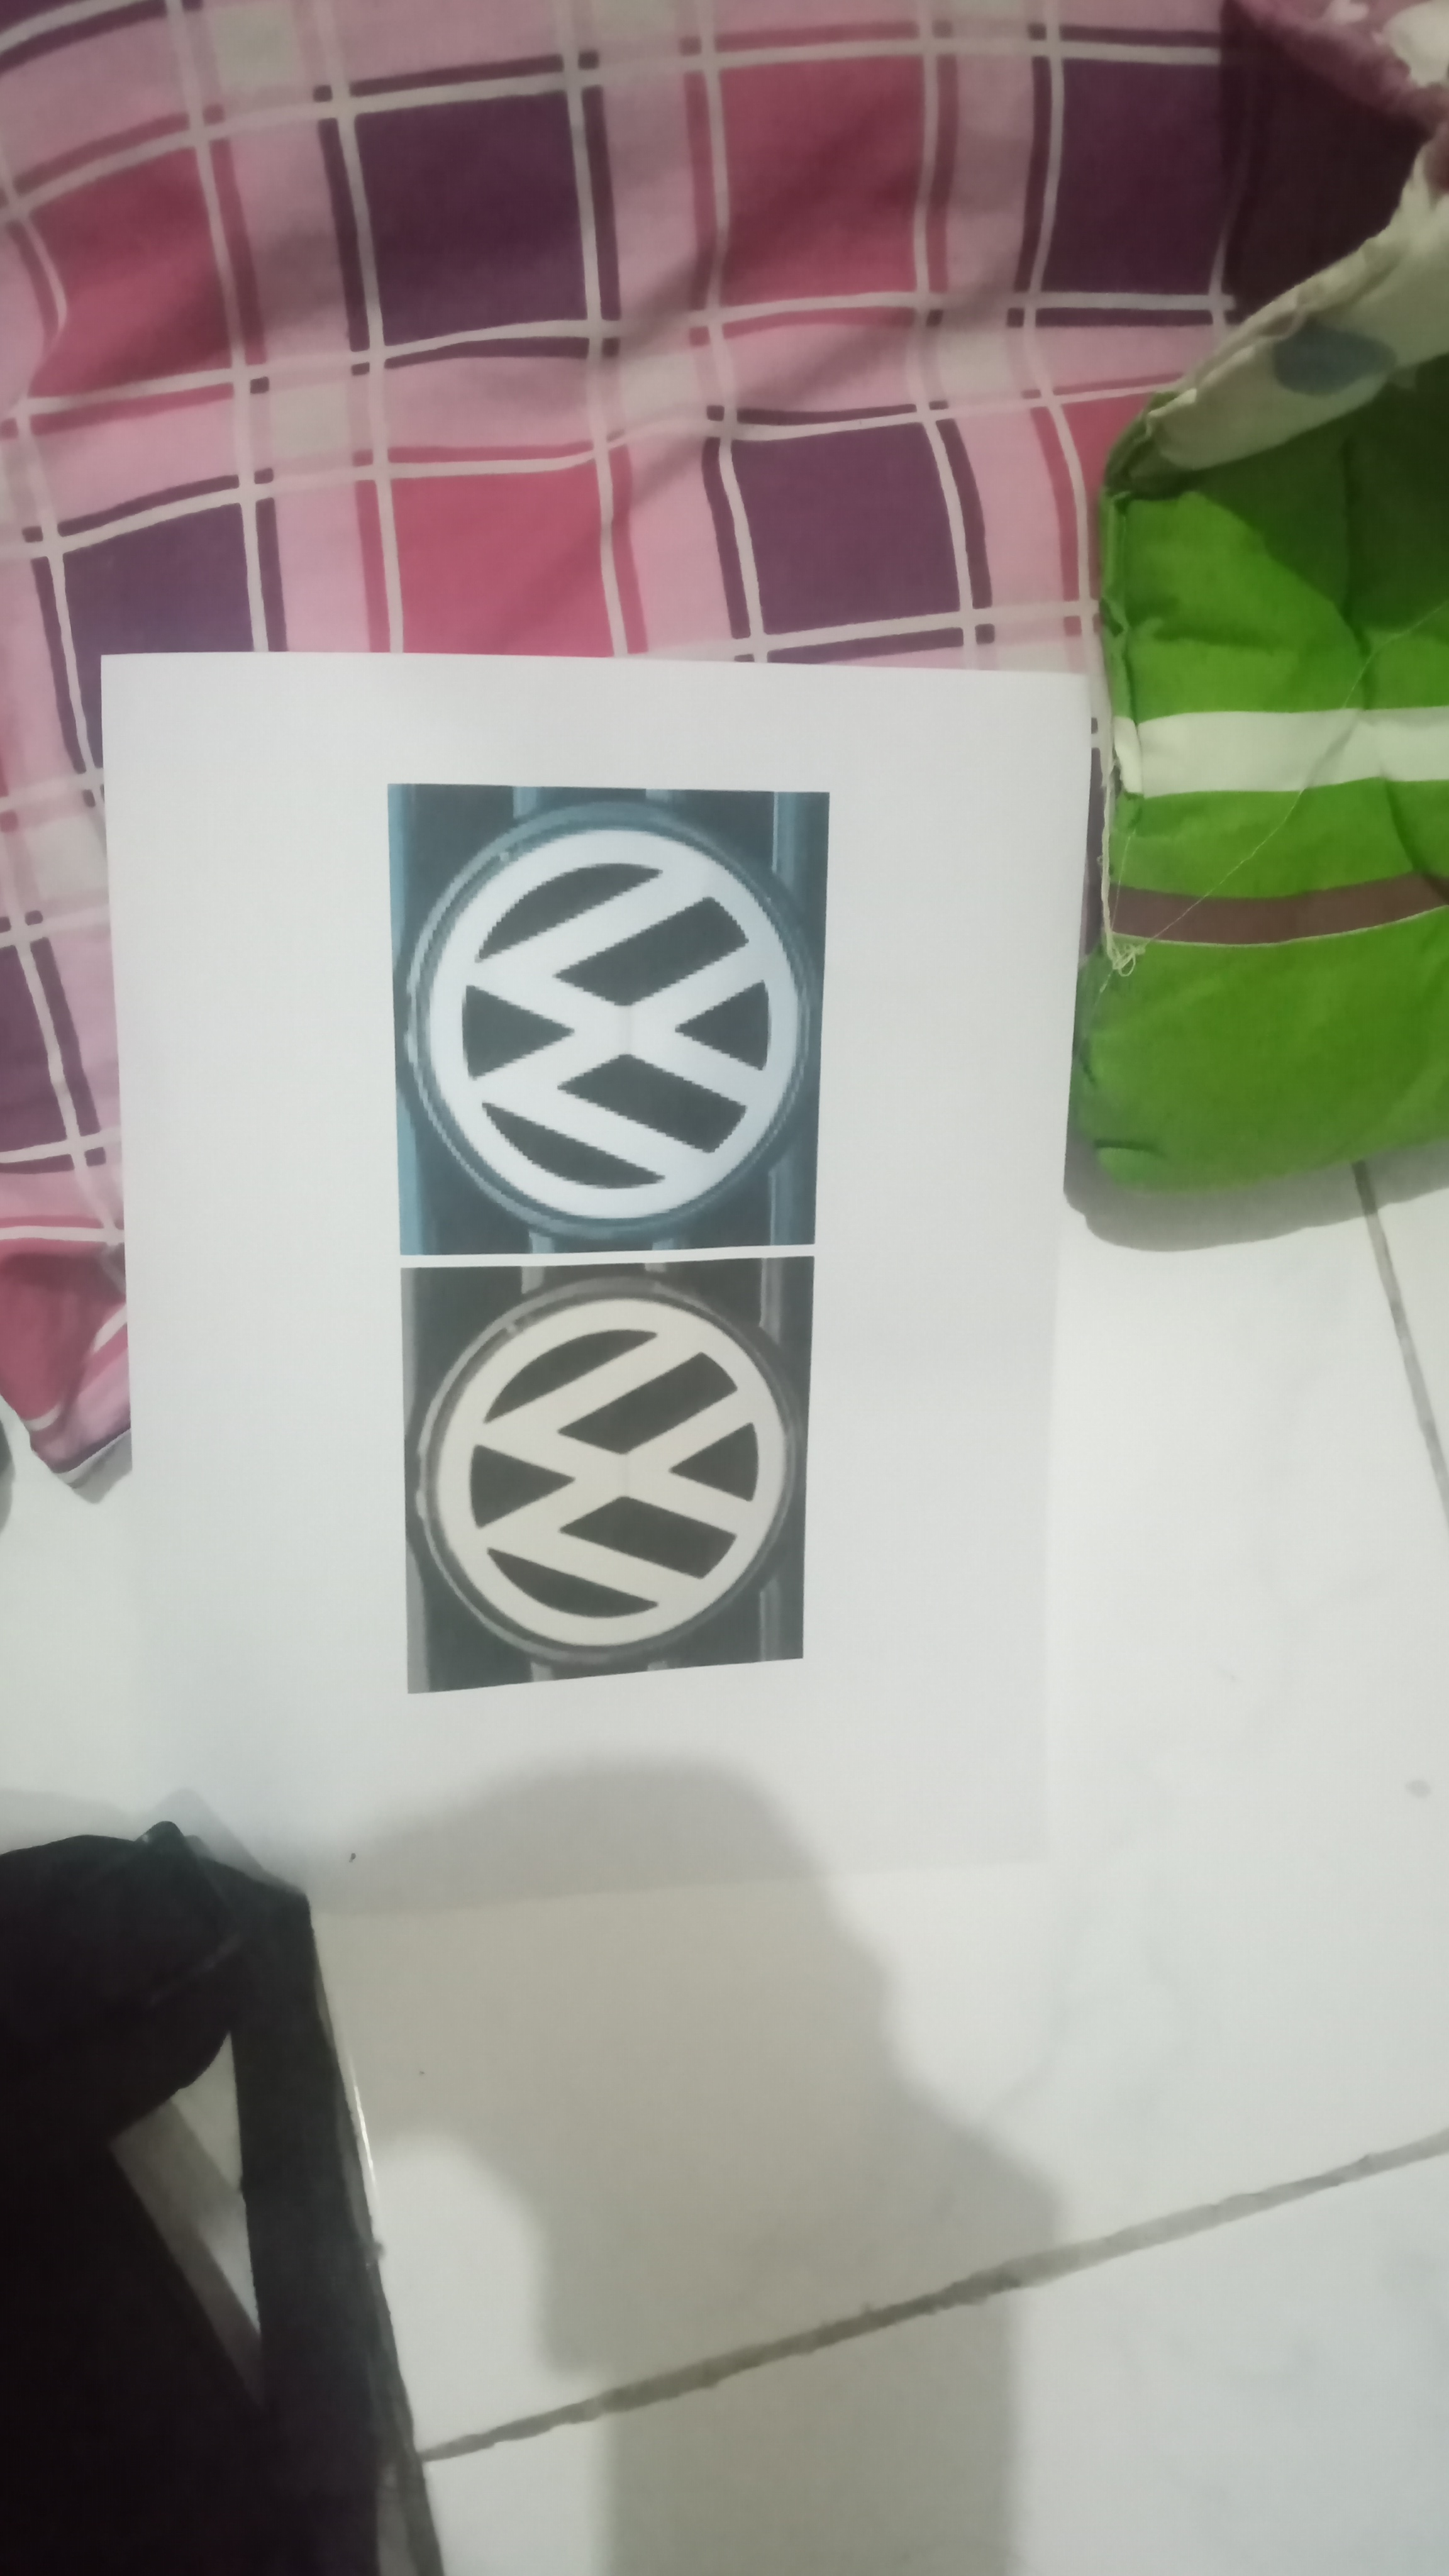Volkswagen: (380, 793, 821, 1235), (421, 1269, 801, 1661)
